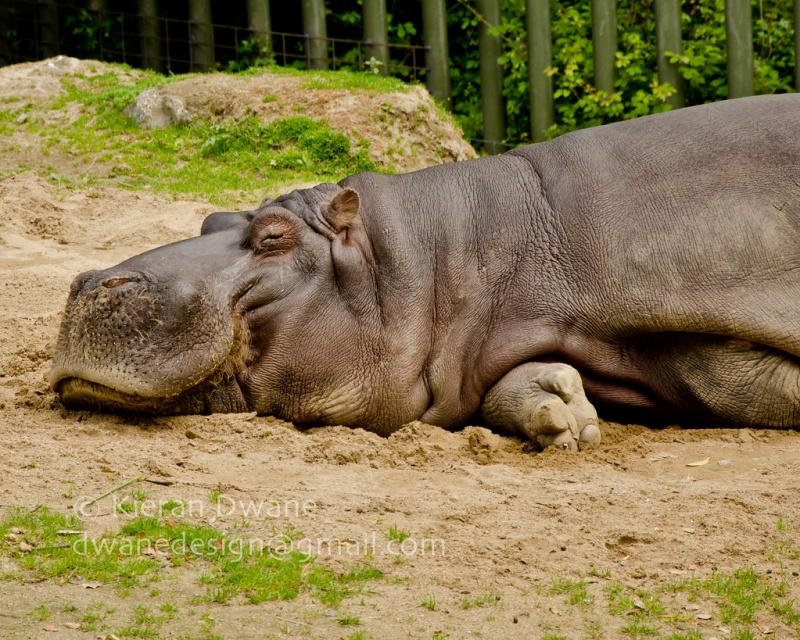hipopotamo: (35, 74, 800, 469)
